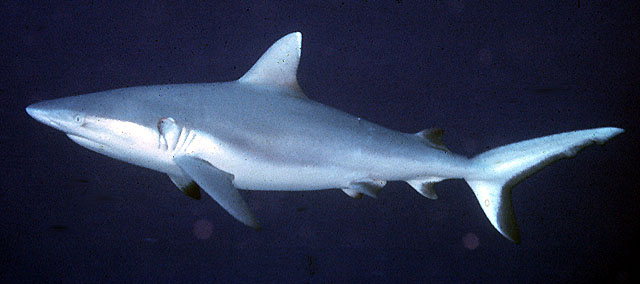Carcharhinus_amblyrhynchos: (14, 15, 629, 255)
